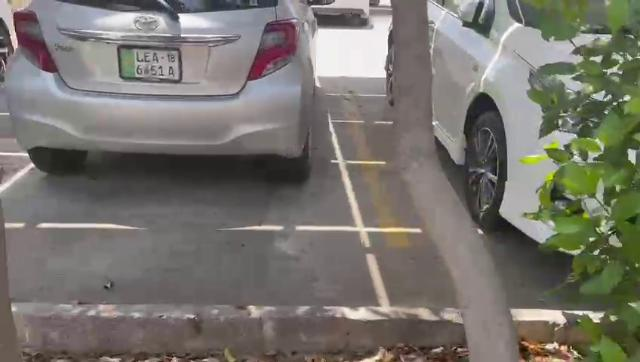plate: (118, 45, 186, 82)
